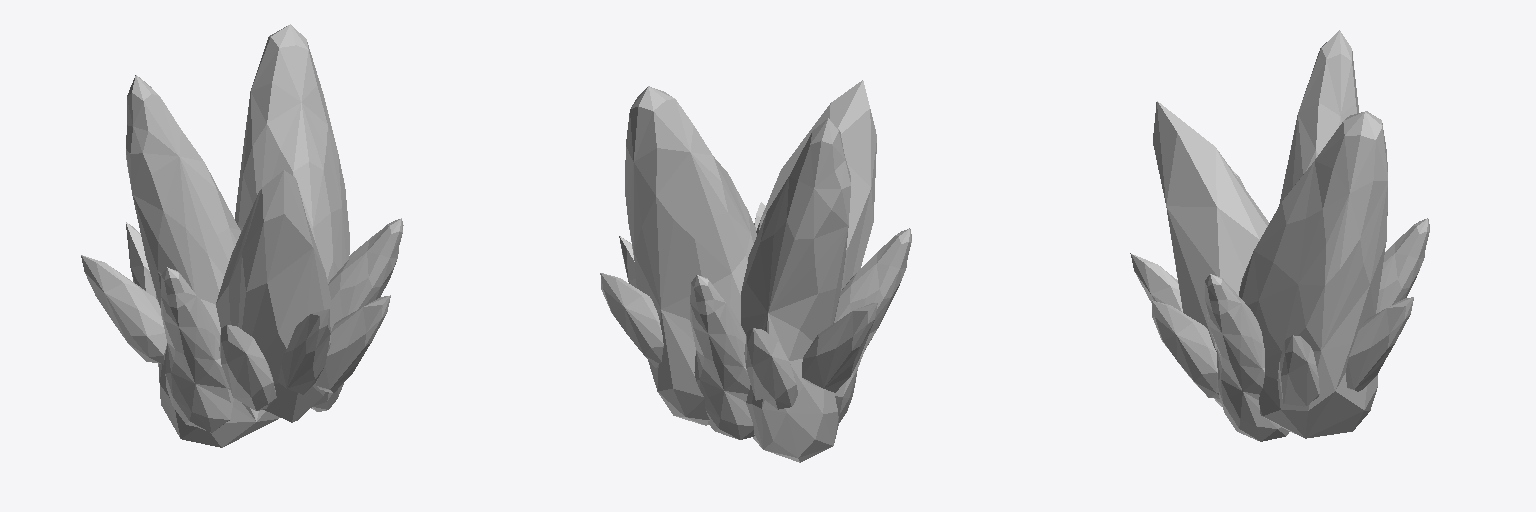
The model's file is kamienny golem atak obszarowy skały z ziemi].obj.
3 renders of one model, left to right at view 1: azimuth 30°, elevation 25°; view 2: azimuth 150°, elevation 25°; view 3: azimuth 270°, elevation 25°, orthographic.
Parts seen in each view (by area): view 1: Icosphere; view 2: Icosphere; view 3: Icosphere.
Part boxes in pixels (x1,y1,x2,y2): Icosphere: (81, 24, 403, 447); Icosphere: (600, 80, 911, 462); Icosphere: (1130, 30, 1429, 441).
Size of the model in its own units: 4.03 by 4.92 by 3.66.